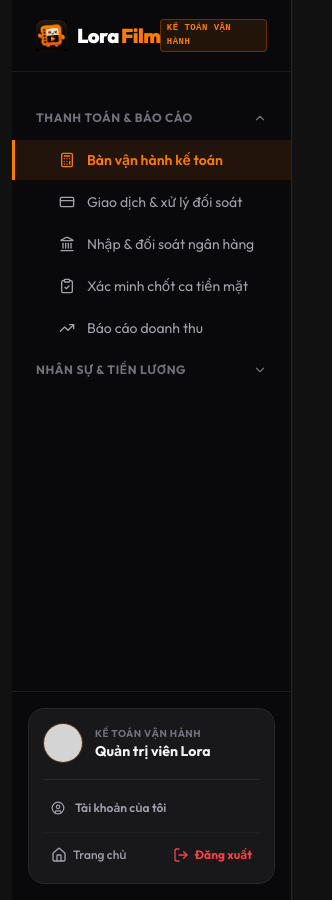
Scenario: AdminSidebar › recognizes the granular ACCOUNTING access profile on an employee account
Check: the text "Bàn vận hành kế toán" is shown, box [87, 150, 223, 170]
Check: the text "Kế toán vận hành" is shown 2 times, box [160, 19, 267, 52]; [95, 726, 210, 740]
Click the button "Nhân sự & tiền lương": click(152, 370) [12, 352, 291, 388]
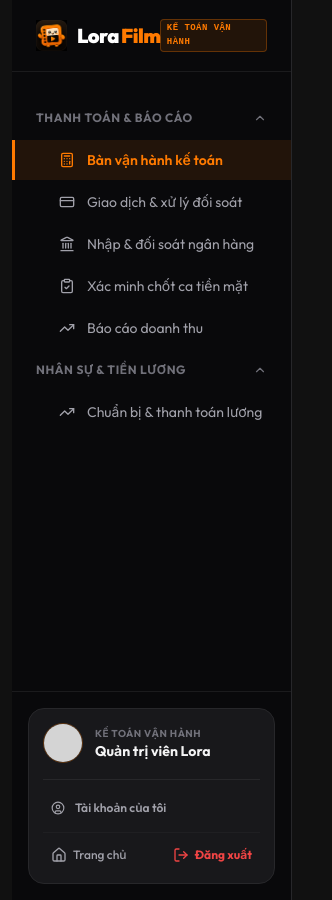
Check: the text "Chuẩn bị & thanh toán lương" is shown, box [87, 402, 262, 422]
